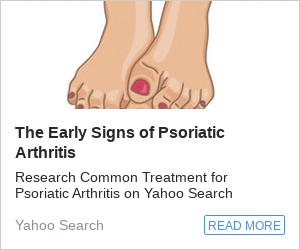fake_button: (199, 209, 291, 241)
